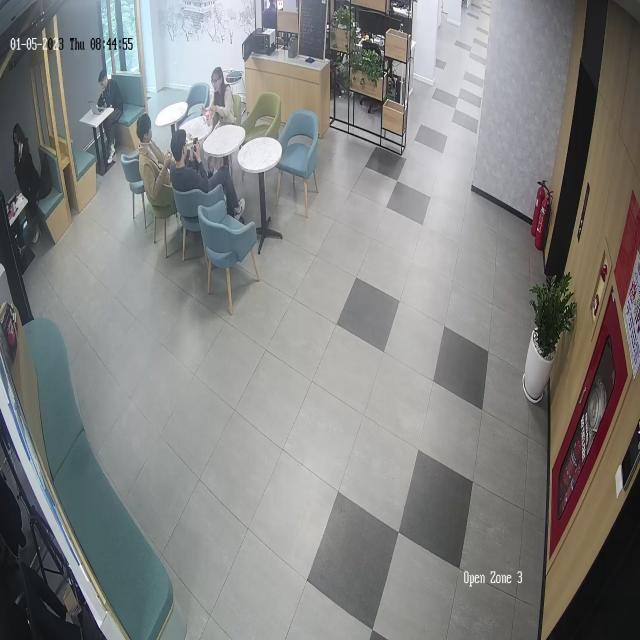person: (167, 125, 246, 226), (13, 121, 47, 245), (137, 114, 176, 210), (97, 66, 125, 165), (208, 65, 236, 126)
